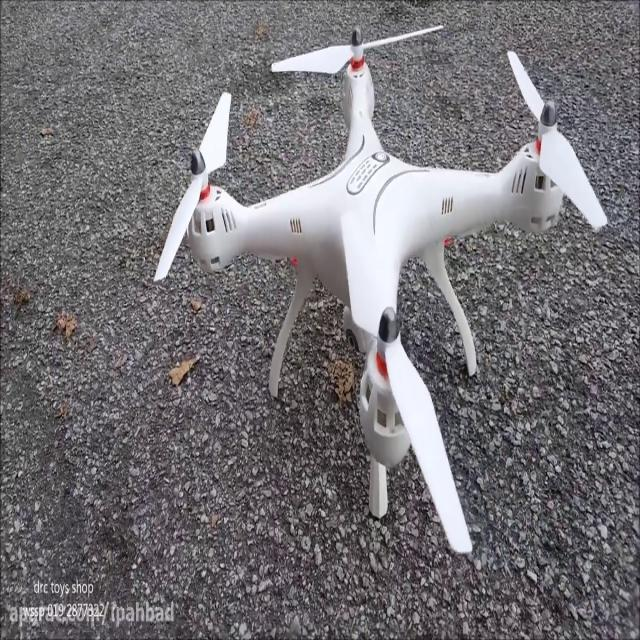drone: (150, 20, 612, 558)
